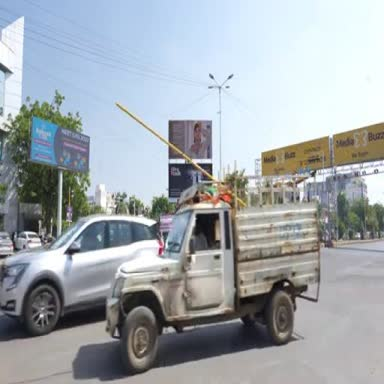Car: (0, 214, 162, 335), (15, 232, 41, 250), (0, 231, 14, 259)
